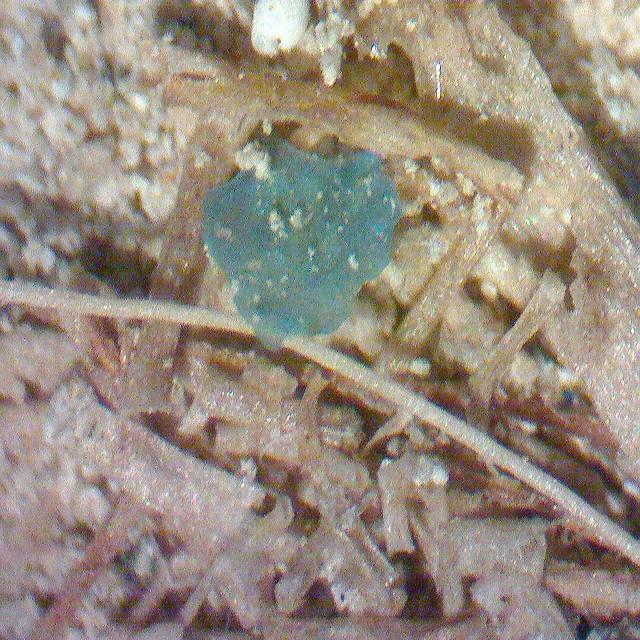microplastic: (177, 106, 437, 367)
